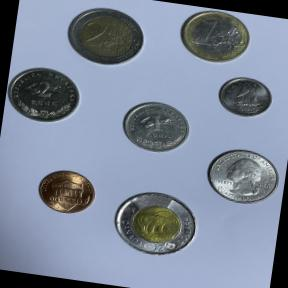1 Euro: (171, 4, 258, 72)
2 Euro: (59, 0, 151, 74)
Canda-10cent-: (211, 70, 278, 125)
Canda-2Dollar-: (104, 182, 205, 265)
Croatia-2Kune-: (2, 60, 86, 130)
US-1cent-: (30, 163, 102, 219)
US-25cent-: (198, 141, 288, 211)
